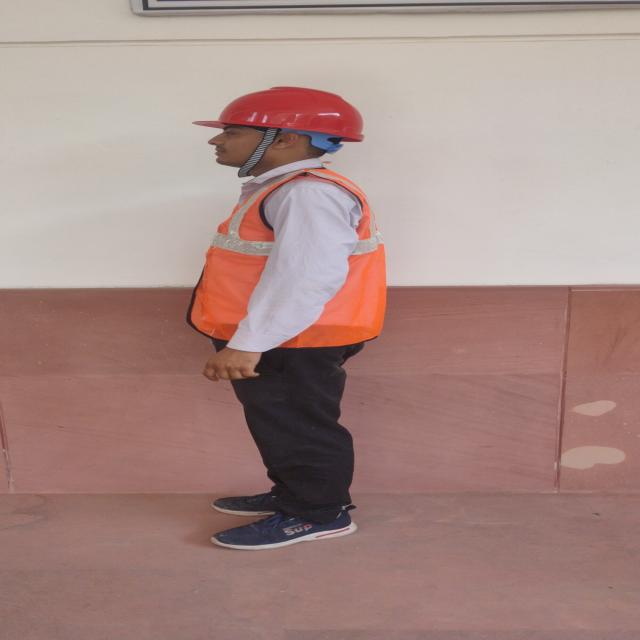safe: (186, 87, 386, 550)
